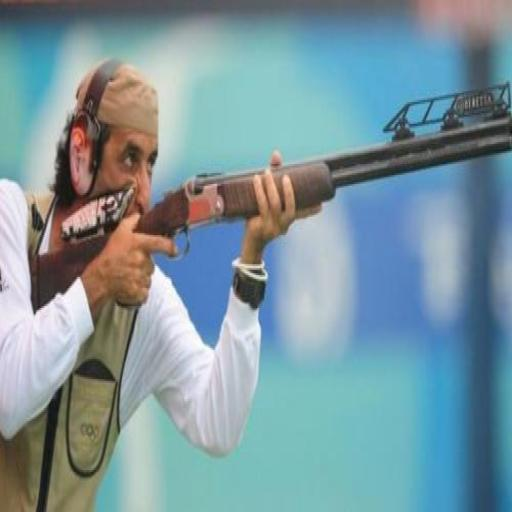shooting: (0, 55, 298, 510)
